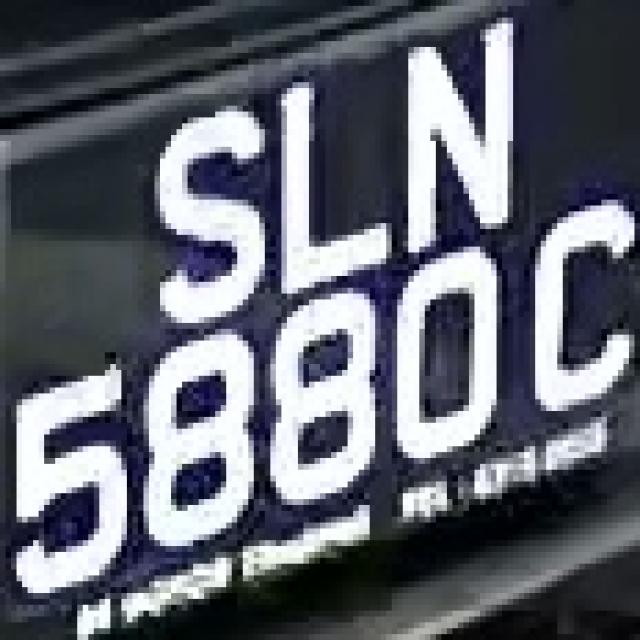0: (364, 240, 519, 470)
5: (11, 340, 138, 616)
8: (260, 264, 398, 511), (132, 328, 276, 564)
C: (508, 194, 634, 417)
L: (254, 59, 397, 299)
N: (380, 6, 540, 276)
S: (149, 70, 265, 329)
